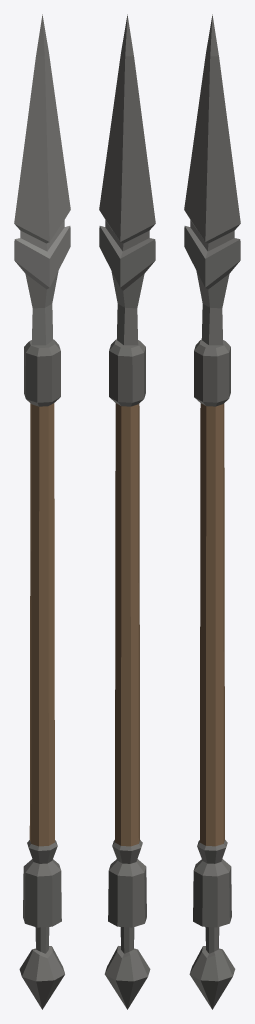
Rendered from SM_pwe_fantasy_javelin_01.fbx.
3 views of the same model, side by side, from view 1: azimuth 30°, elevation 25°; view 2: azimuth 150°, elevation 25°; view 3: azimuth 330°, elevation 25° (orthographic).
Visible parts, largest first — view 1: SM_pwe_fantasy_javelin_01; view 2: SM_pwe_fantasy_javelin_01; view 3: SM_pwe_fantasy_javelin_01.
Boxes of the visible parts, x1,y1,x2,y2 form: SM_pwe_fantasy_javelin_01: [14, 14, 70, 1009]; SM_pwe_fantasy_javelin_01: [99, 14, 155, 1009]; SM_pwe_fantasy_javelin_01: [184, 14, 240, 1009].
Bounding box in the file's own units: 11.31 × 190 × 8.18.
